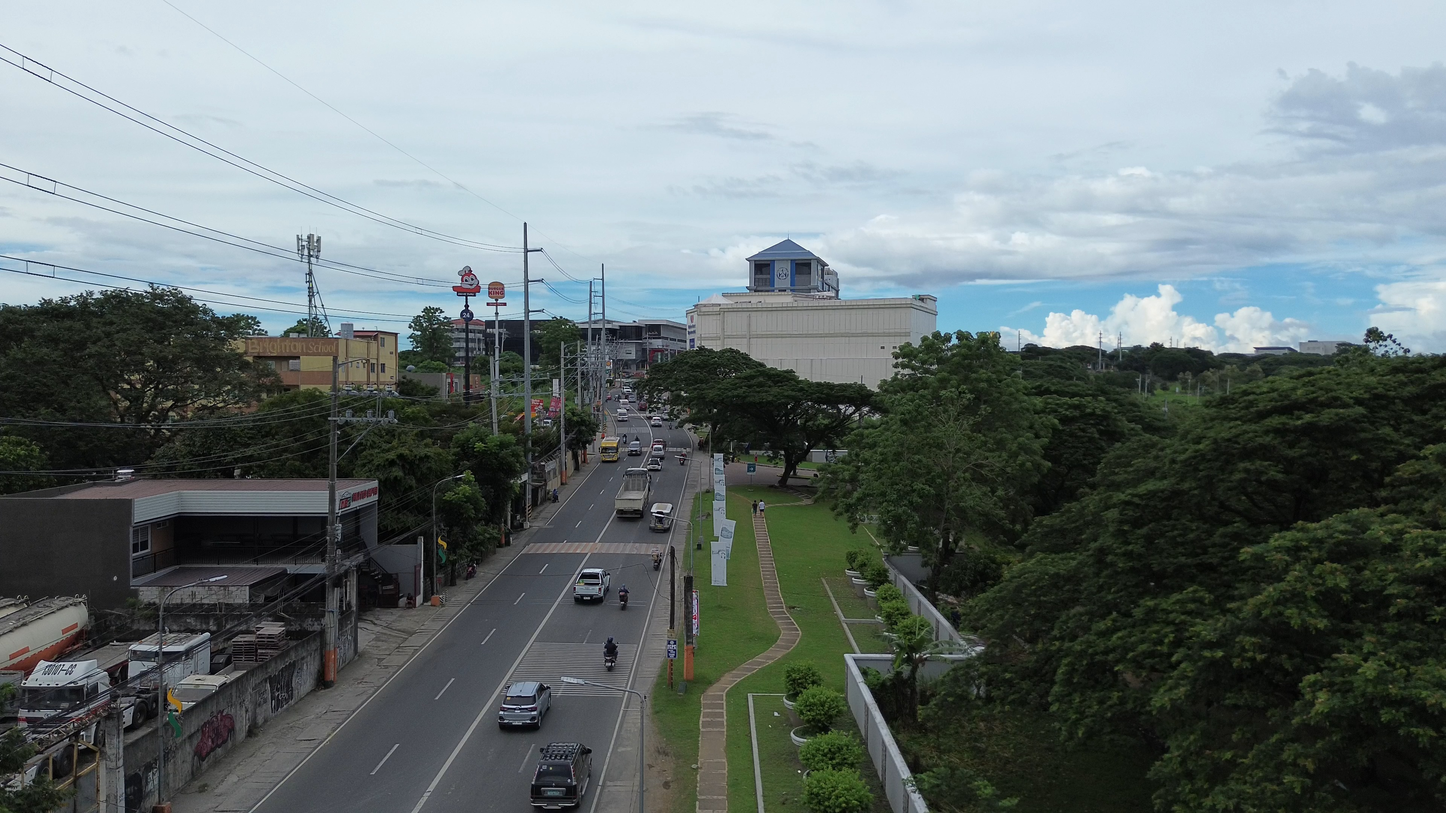motorcycle: (464, 564, 477, 580), (652, 550, 662, 570), (618, 592, 628, 610), (604, 655, 615, 671)
vehicle: (0, 597, 88, 672), (18, 659, 111, 728), (128, 632, 209, 689), (531, 743, 592, 809), (498, 681, 551, 728), (170, 674, 232, 710), (615, 468, 651, 517), (573, 568, 610, 602), (649, 503, 674, 532), (599, 437, 619, 461), (650, 439, 666, 457), (651, 547, 662, 570), (645, 457, 662, 471), (628, 440, 642, 455), (615, 406, 628, 421), (650, 416, 663, 427), (540, 418, 553, 427)
